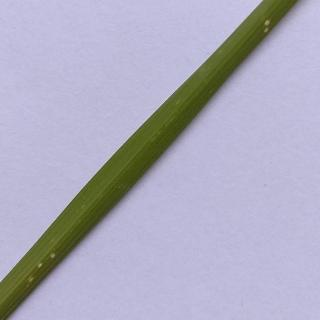Blast: (17, 249, 66, 290), (257, 12, 276, 39)
